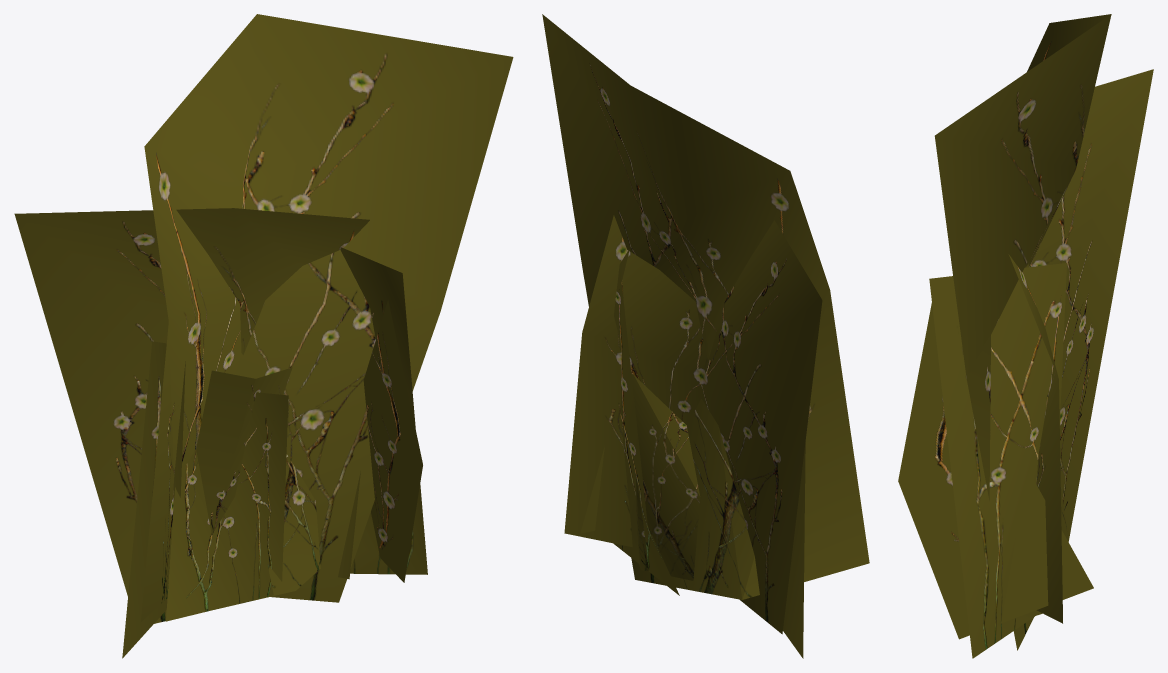
File: ivy19_lod1.fbx
3 renders of one model, left to right at view 1: azimuth 30°, elevation 25°; view 2: azimuth 150°, elevation 25°; view 3: azimuth 270°, elevation 25°, orthographic. The views are drawn at different scales.
Parts seen in each view (by area): view 1: Mesh Object; view 2: Mesh Object; view 3: Mesh Object.
Boxes of the visible parts, x1=… form: Mesh Object: x1=14, y1=14, x2=513, y2=658; Mesh Object: x1=542, y1=14, x2=869, y2=658; Mesh Object: x1=898, y1=14, x2=1153, y2=658.
Size of the model in its own units: 1.46 by 2.06 by 0.7457.
